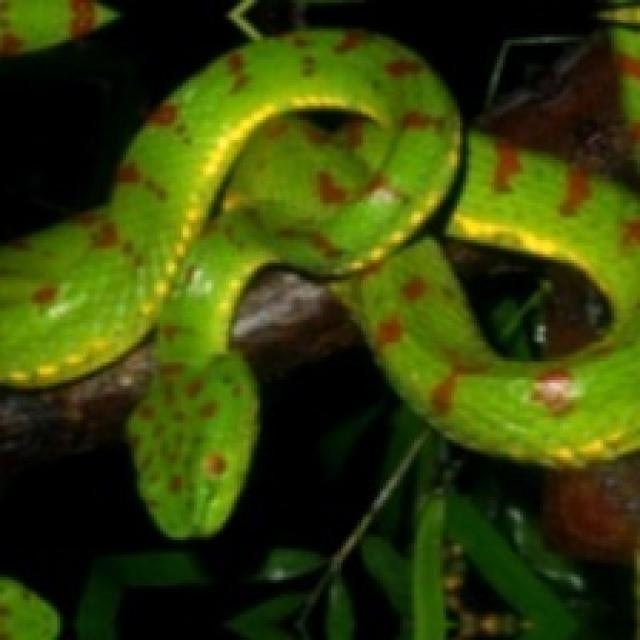philippine pitviper: (0, 29, 637, 537)
